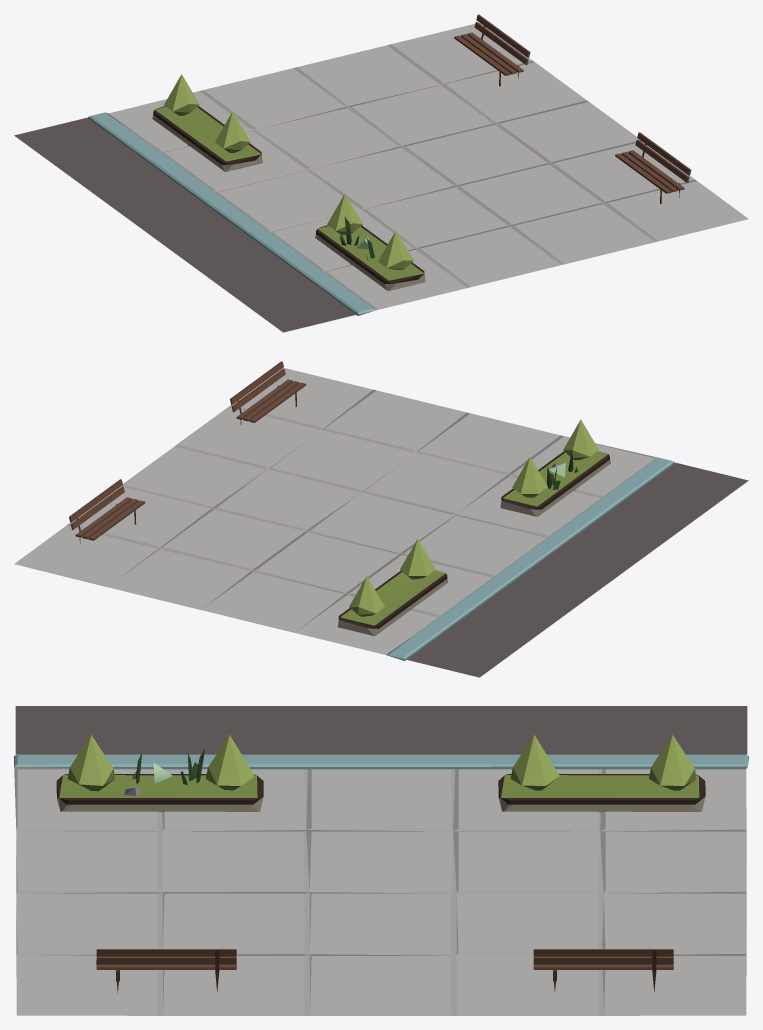
File: QmePAZvFyKymwnwZvGmFSnWBmVWdXHyAYPNChVsFtXQVKB_lod2.fbx
The picture shows the model from 3 angles, top to bottom: view 1: azimuth 30°, elevation 25°; view 2: azimuth 150°, elevation 25°; view 3: azimuth 270°, elevation 25°; orthographic projection. The views are drawn at different scales.
Visible parts, largest first — view 1: Entity_512; view 2: Entity_512; view 3: Entity_512.
Part boxes in pixels (x1,y1,x2,y2): Entity_512: [14, 14, 748, 332]; Entity_512: [14, 361, 748, 677]; Entity_512: [14, 706, 748, 1015].
Size of the model in its own units: 15918 by 1591 by 16000.
Materials: 1 (1 with a texture image).
